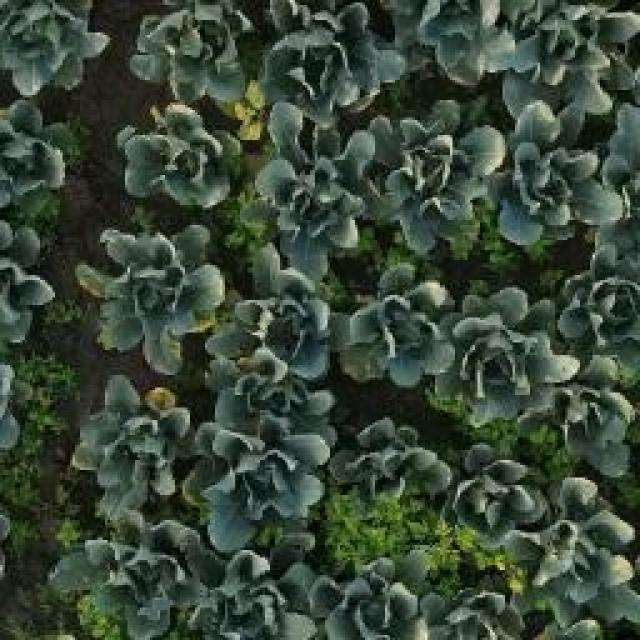cabbage: (250, 116, 380, 268), (93, 226, 221, 367), (497, 104, 621, 242), (199, 422, 331, 551), (384, 123, 506, 256), (447, 293, 561, 430), (254, 9, 384, 116), (49, 508, 167, 621), (335, 272, 445, 390), (507, 0, 640, 95), (114, 108, 238, 205), (82, 388, 188, 500), (339, 418, 449, 524), (210, 368, 348, 451), (133, 0, 255, 91), (302, 560, 432, 640), (186, 539, 288, 640), (541, 373, 633, 480), (223, 278, 334, 365), (563, 244, 640, 364), (461, 451, 549, 547), (0, 0, 95, 85), (0, 96, 67, 207)
